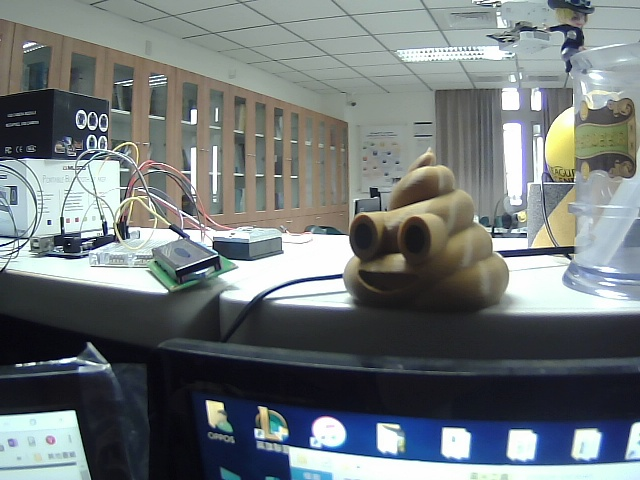shit: (339, 146, 518, 319)
